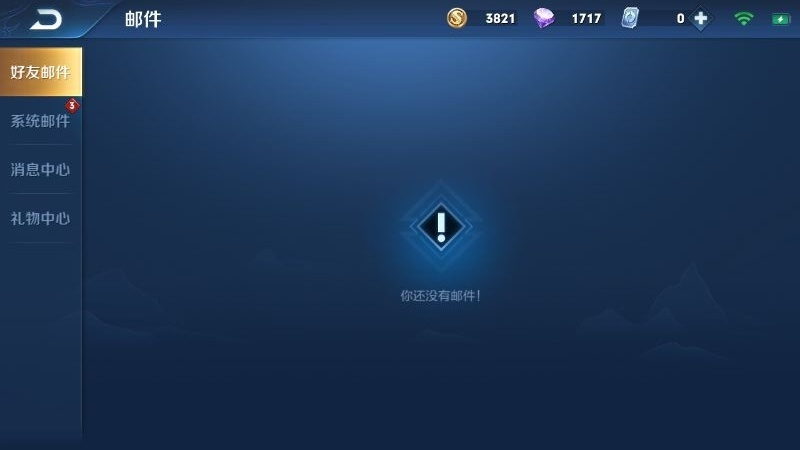return: (20, 1, 75, 35)
tag: (1, 197, 78, 234), (1, 148, 77, 185), (8, 107, 70, 133)
